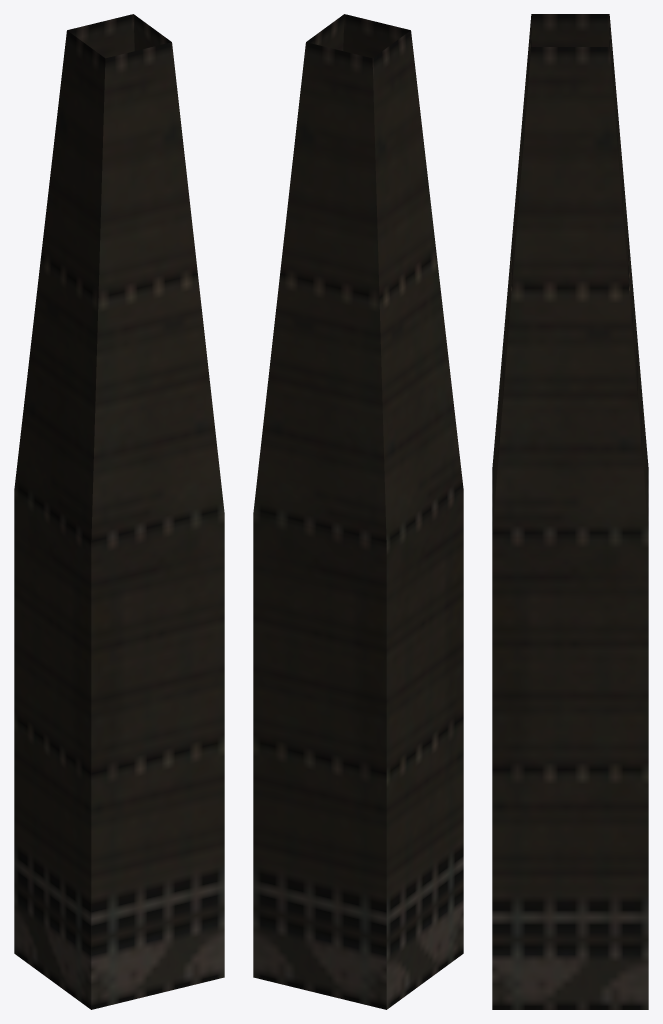
File: column_3.fbx
The picture shows the model from 3 angles, left to right: view 1: azimuth 30°, elevation 25°; view 2: azimuth 150°, elevation 25°; view 3: azimuth 270°, elevation 25°; orthographic projection.
Parts seen in each view (by area): view 1: column_3; view 2: column_3; view 3: column_3.
Part boxes in pixels (box(x1,y1,x2,y2)): column_3: box(14, 14, 224, 1009); column_3: box(253, 14, 463, 1009); column_3: box(492, 14, 648, 1009).
Bounding box in the file's own units: 30 × 200 × 30.
